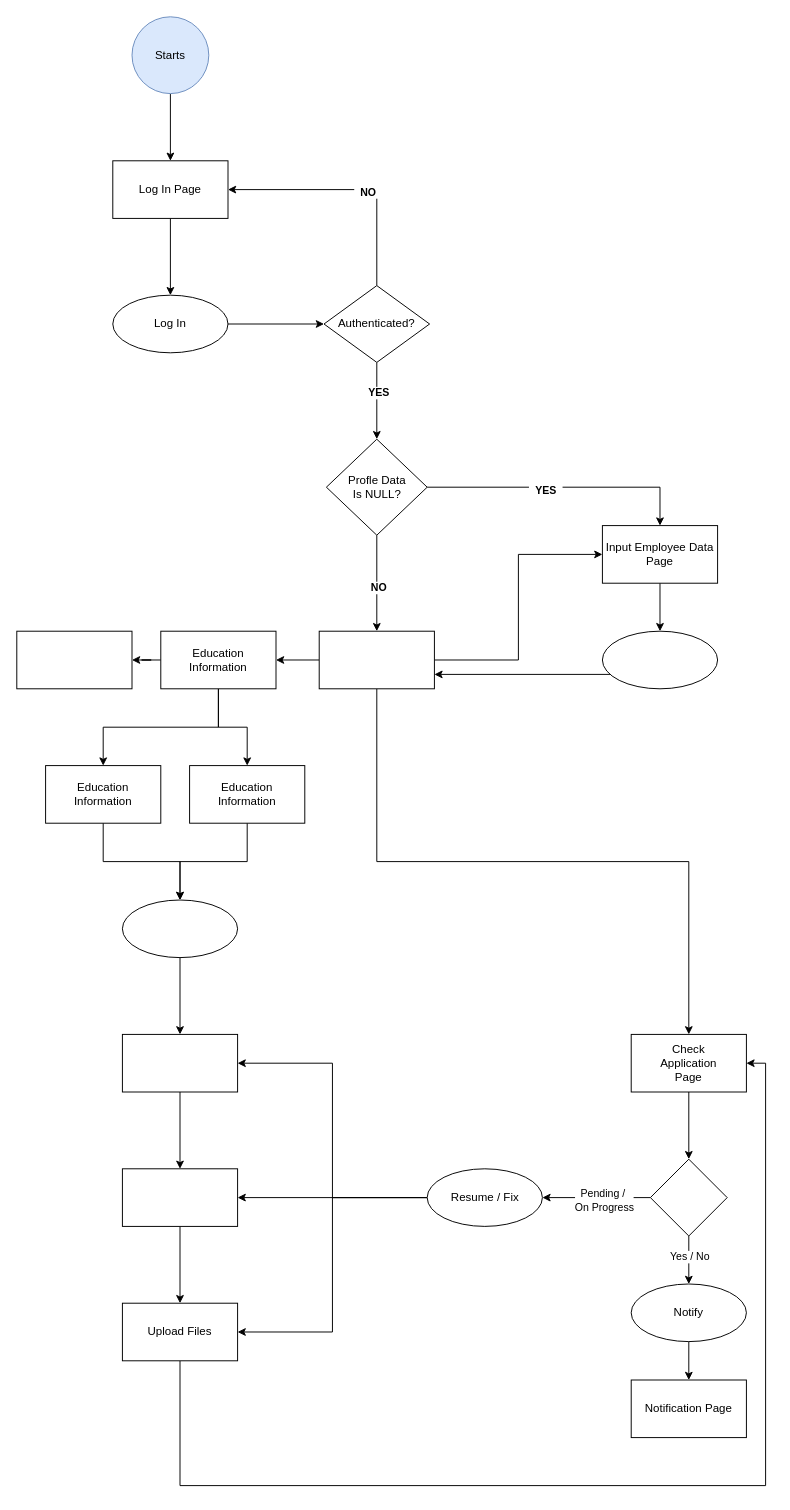
Some shapes in this 790 by 1510 pixel diagram are drawn without their labels. The shapes that lost their labels are listed below. From the top down, each one's centre as x and y in pixels, then its label:
At point 74,659: "Various Websites...".
At point 376,659: "Home Page".
At point 659,659: "Input Data".
At point 179,928: "Apply".
At point 179,1062: "Application Form".
At point 179,1197: "Download Files".
At point 688,1197: "Accepted?".
